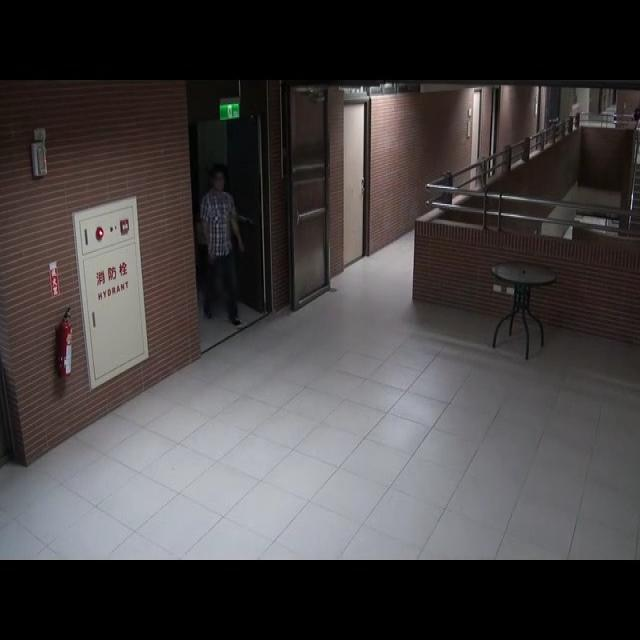abandoned-object: (192, 164, 261, 330)
